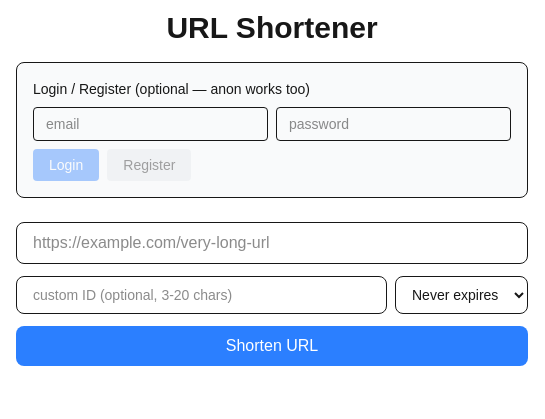
Scenario: Home Page › shows error message on network failure
Type "https://example.com" into the field with placeholder "https://example.com/very-long-url".
click(272, 243); type("https://example.com")  # box [16,222,528,264]
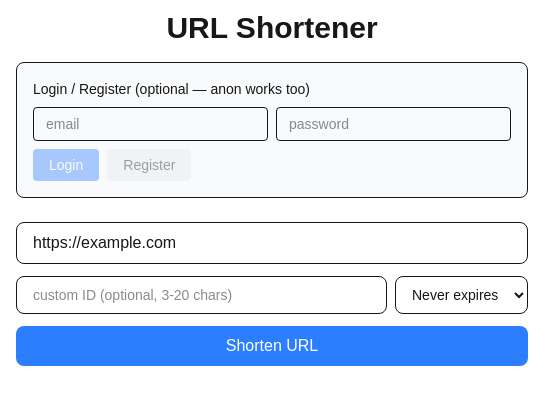
Submit the form with placeholder "https://example.com/very-long-url", box [16,222,528,366]
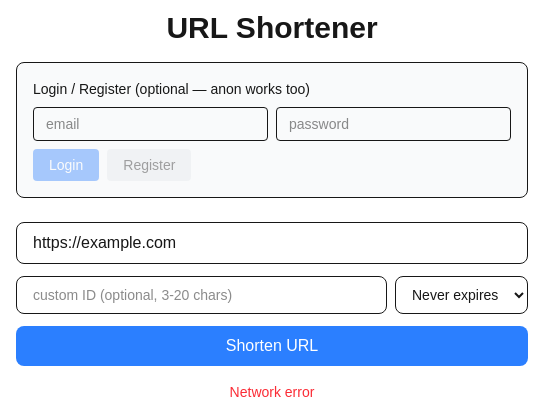
Check: the text "Network error" is shown, box [230,382,314,402]
